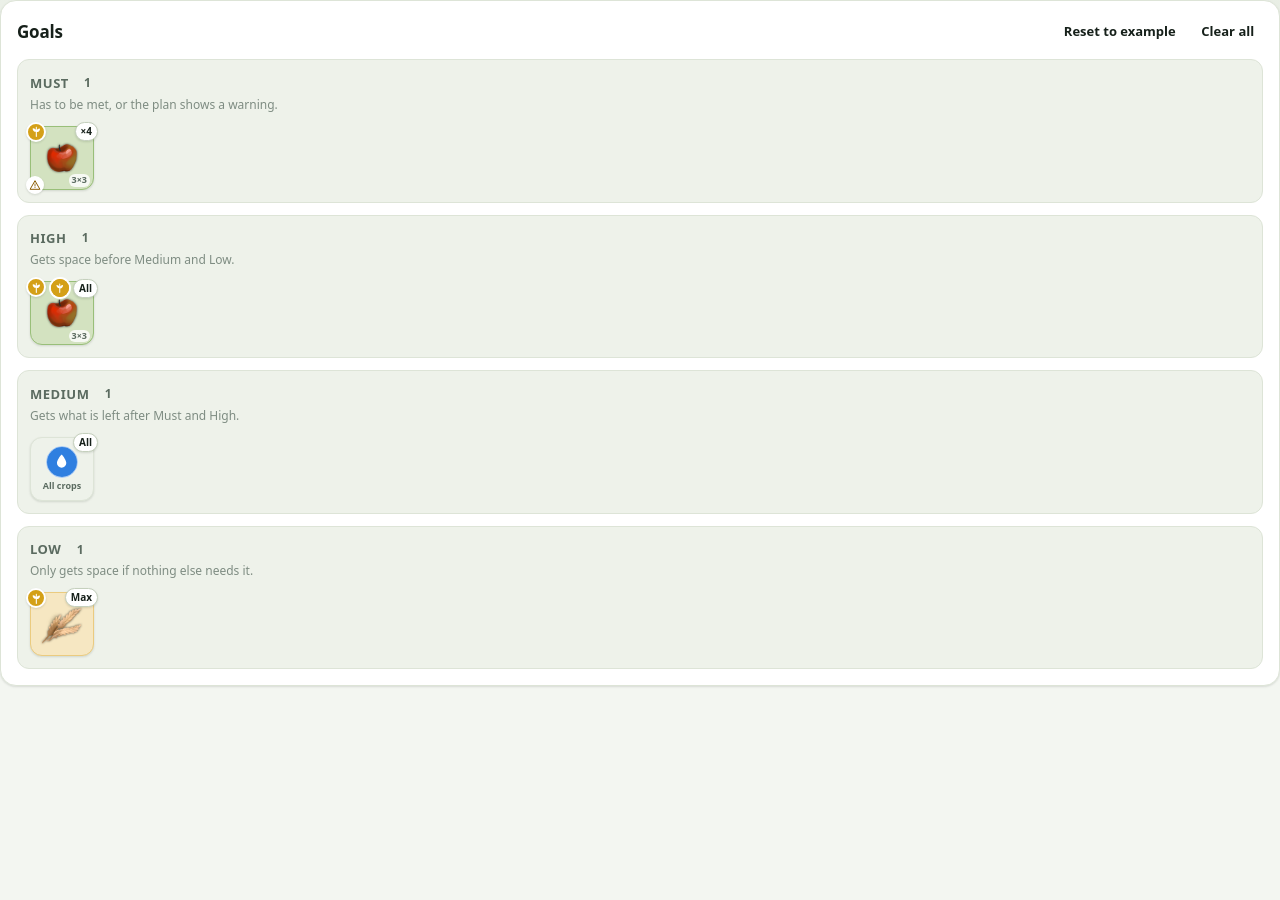
it: GoalsBoard layout › shows a precheck flag and its message when a goal has an issue
Click the button "3×3 ×4".
click(62, 158)  # box x1=30 y1=126 x2=94 y2=190
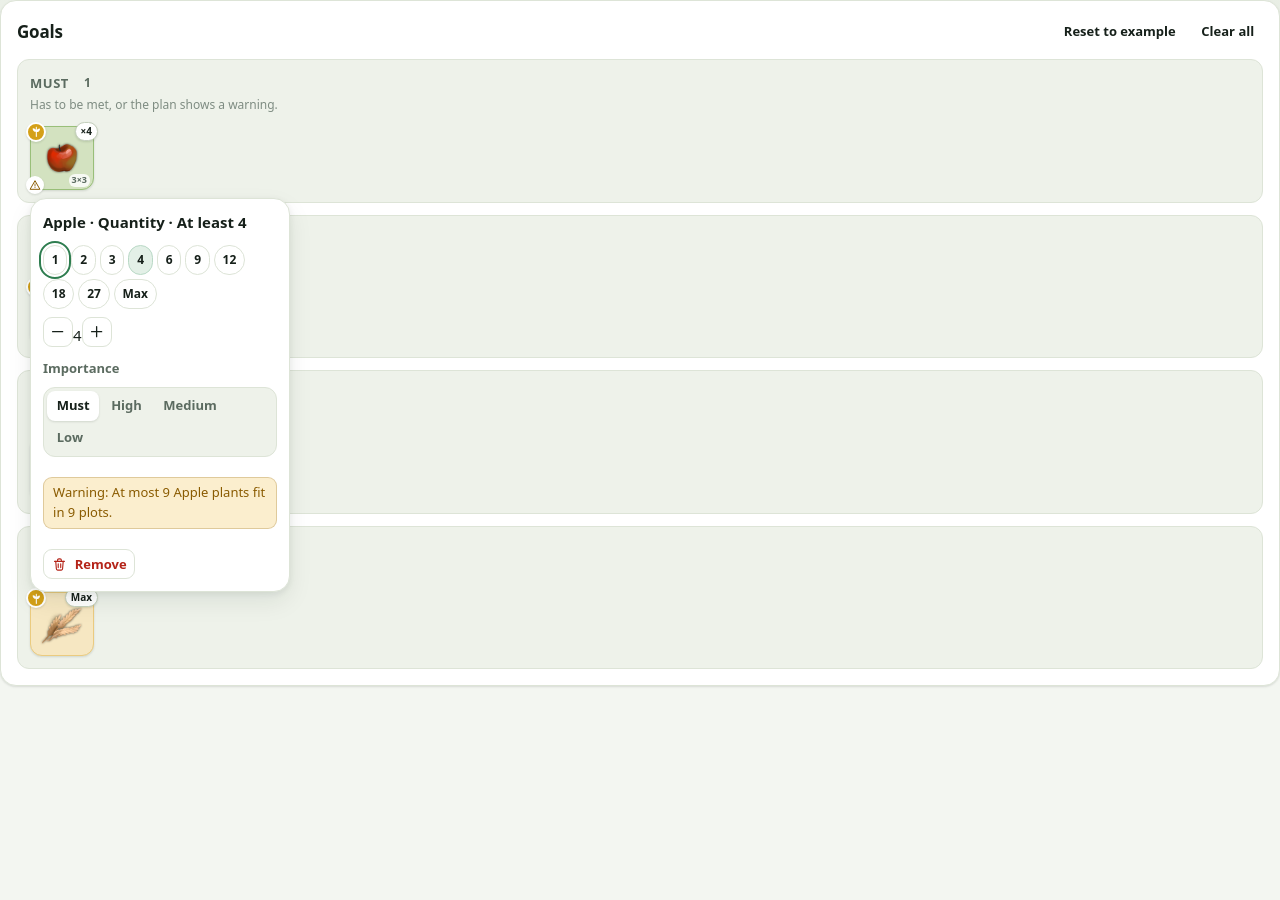
Expected: the text "Warning: At most 9 Apple plants fit in 9 plots." is shown, x1=43 y1=477 x2=277 y2=529
